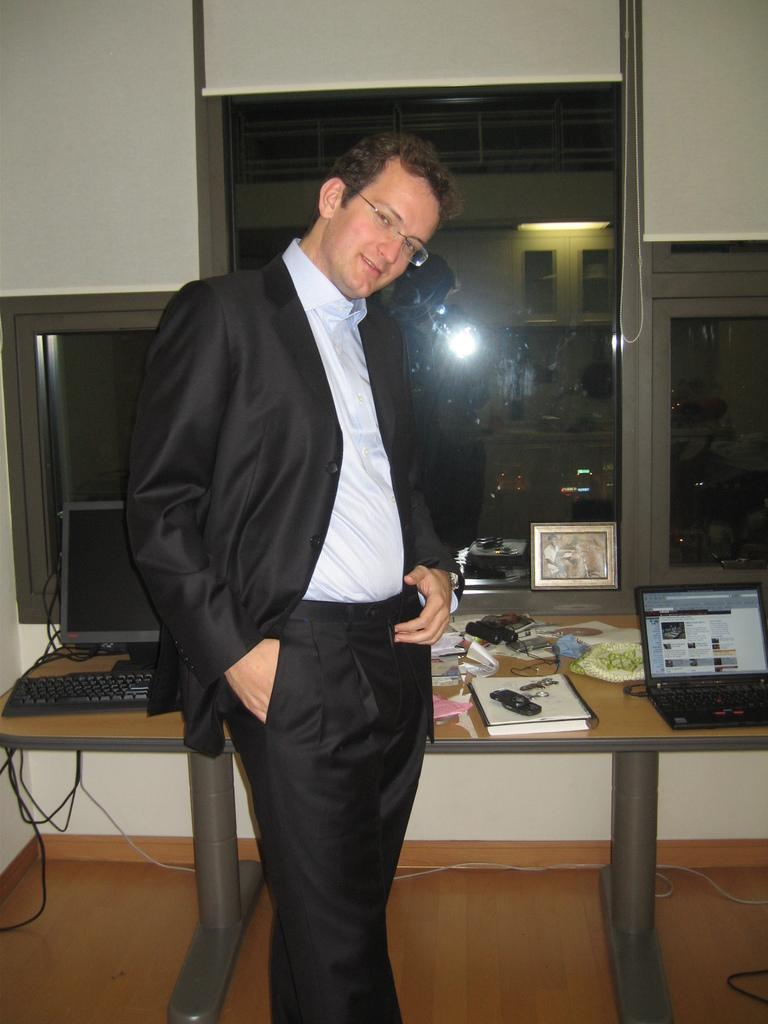Laptop: (641, 570, 750, 749)
